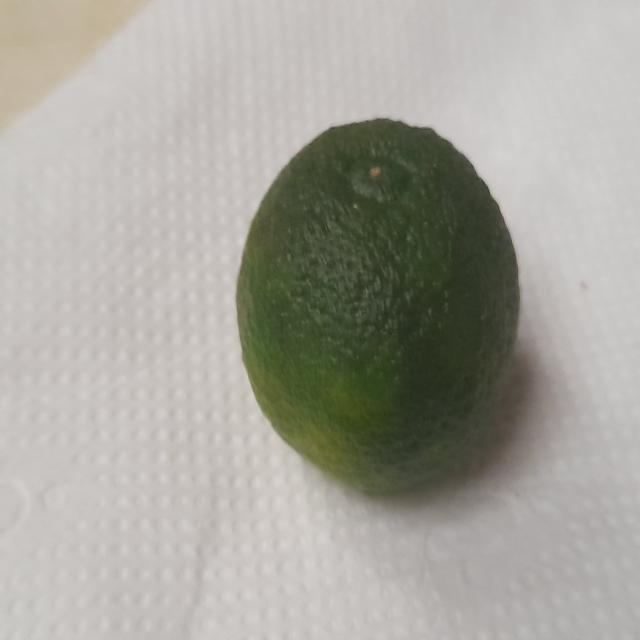heathy: (232, 109, 534, 511)
